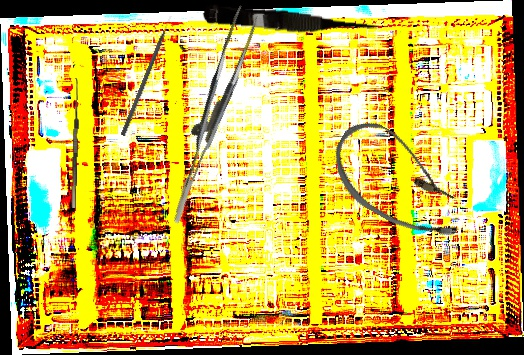Cannula: (317, 111, 484, 253)
Hook Surgical: (120, 15, 175, 137), (64, 77, 81, 209)
Micro Scissor: (201, 3, 385, 42)
Tissue Forceps: (138, 5, 280, 224)
